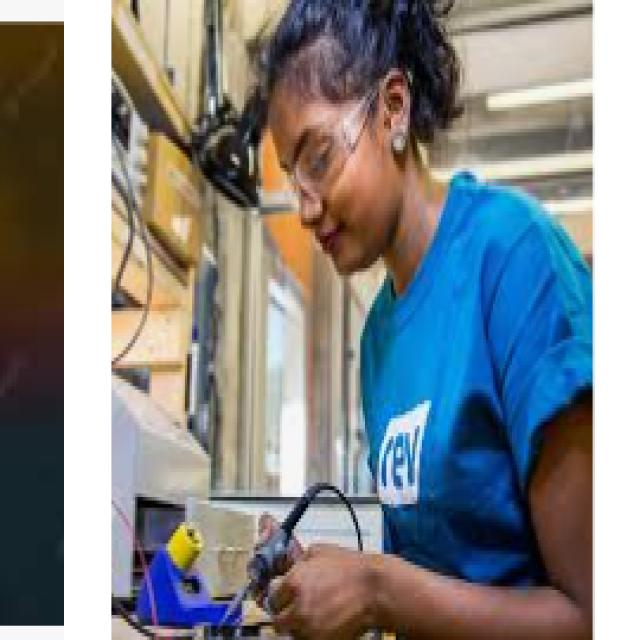glasses: (267, 115, 393, 209)
